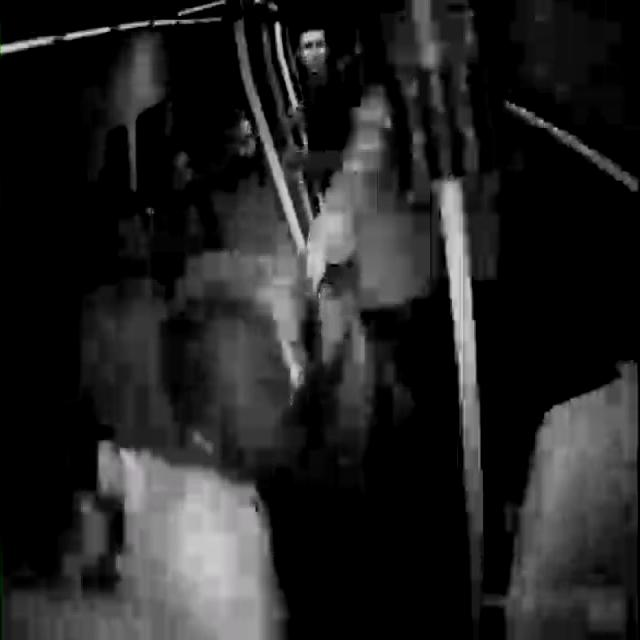fight: (289, 3, 344, 159)
